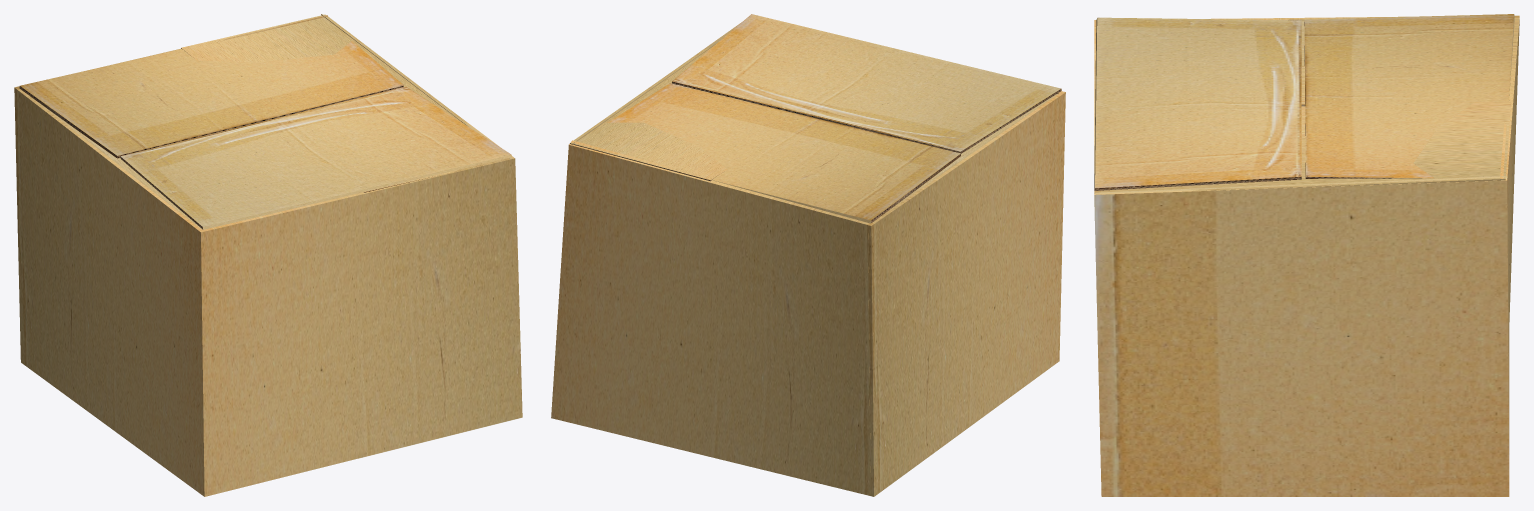
File: static-box2.fbx
3 renders of one model, left to right at view 1: azimuth 30°, elevation 25°; view 2: azimuth 150°, elevation 25°; view 3: azimuth 270°, elevation 25°, orthographic. The views are drawn at different scales.
Parts seen in each view (by area): view 1: Cube.007; view 2: Cube.007; view 3: Cube.007.
Boxes of the visible parts, x1,y1,x2,y2 form: Cube.007: (14,14,522,496); Cube.007: (551,14,1065,496); Cube.007: (1094,14,1519,496).
Size of the model in its own units: 198 by 161 by 200.
